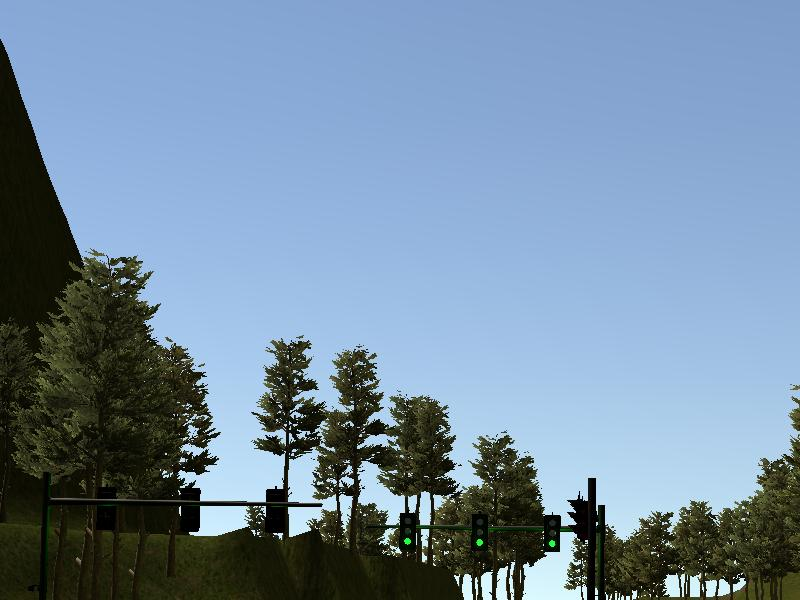Green: (400, 513, 416, 550), (471, 513, 487, 550), (543, 516, 559, 553)
